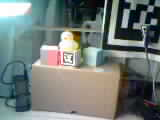duck: (51, 21, 76, 49)
